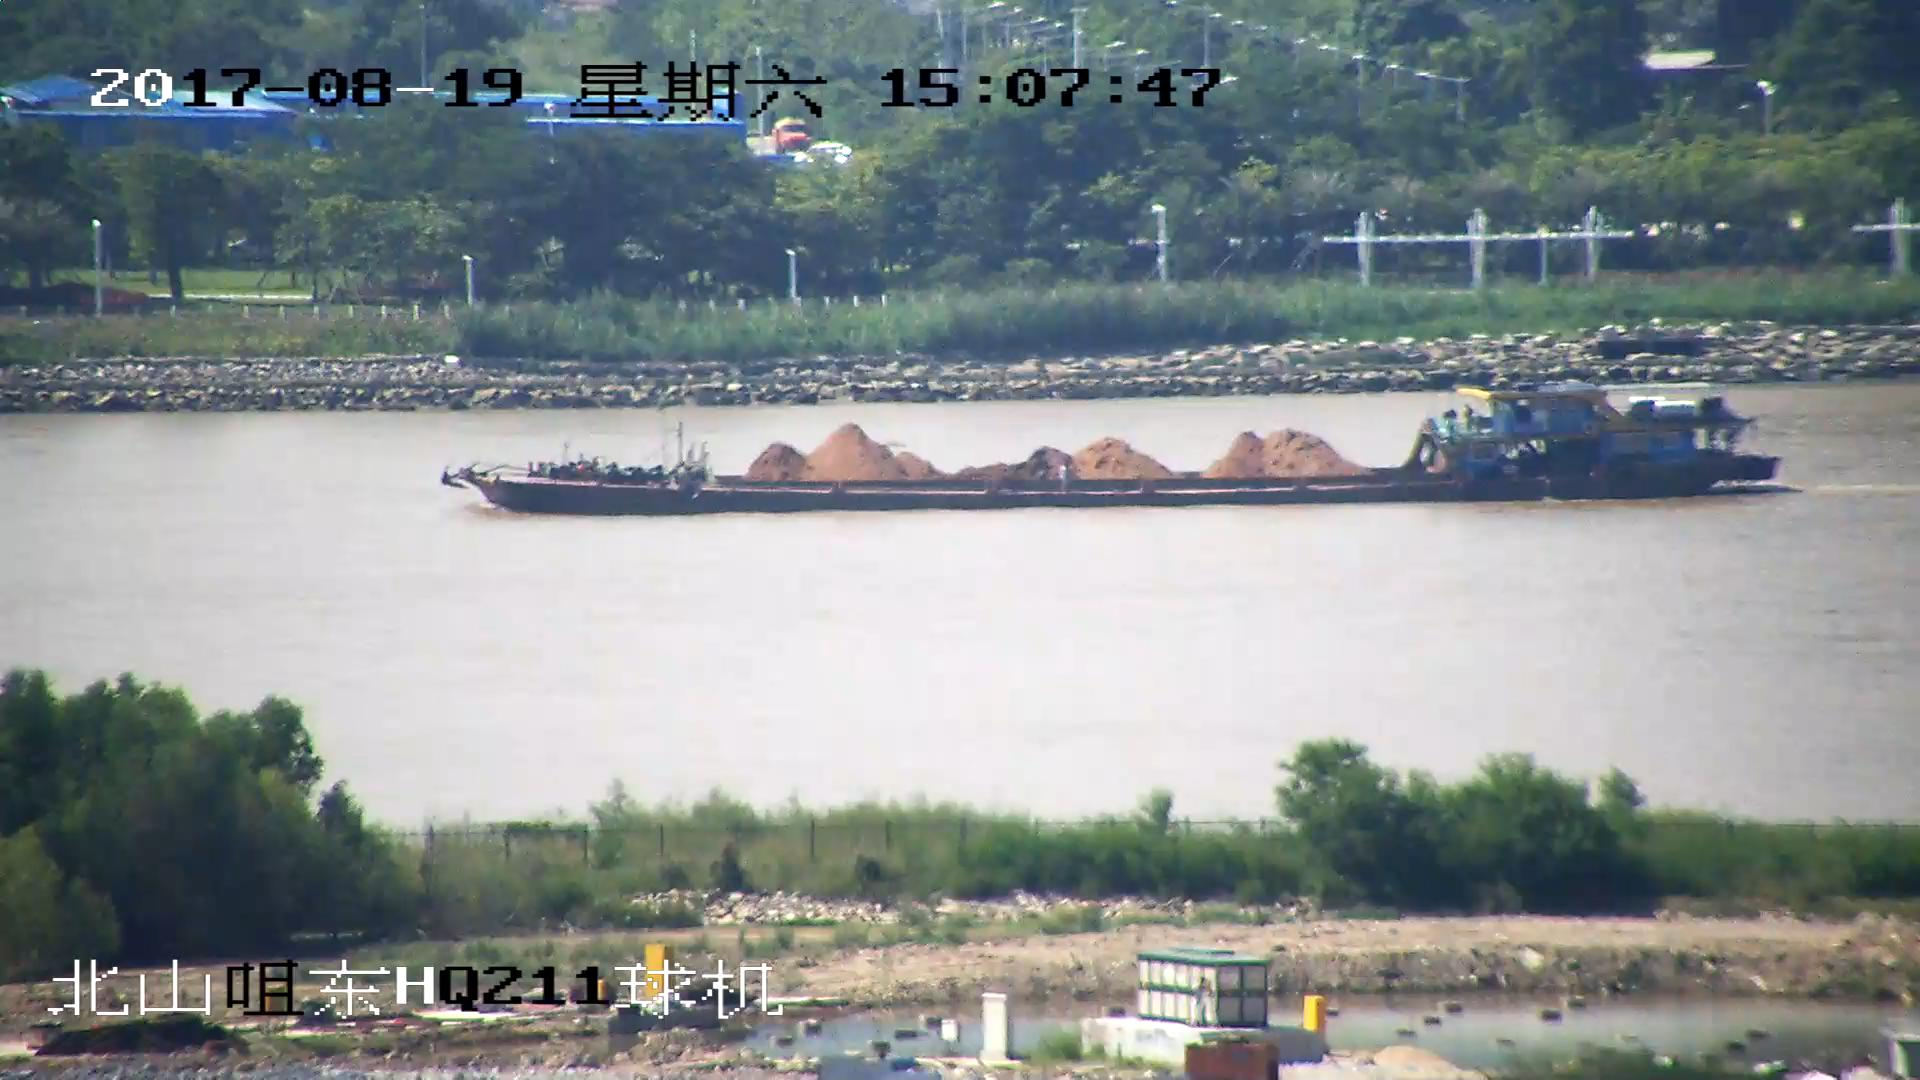ore carrier: (437, 384, 1779, 519)
